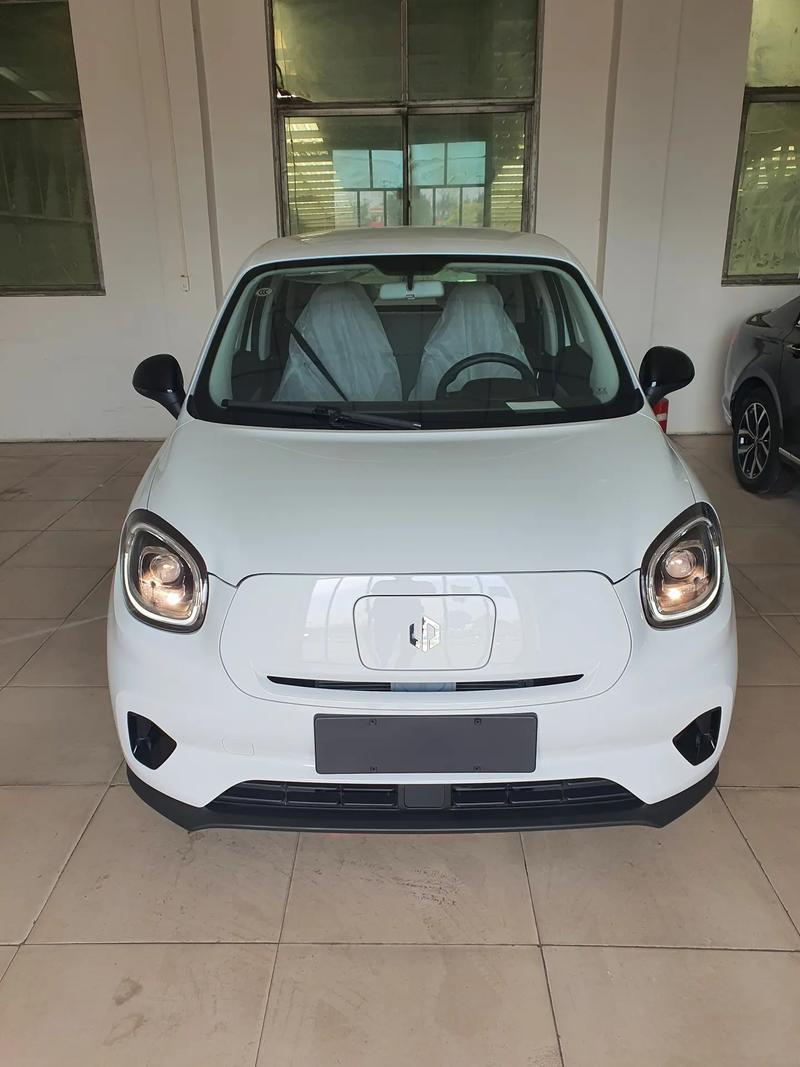LEAPMOTOR: (409, 612, 440, 652)
